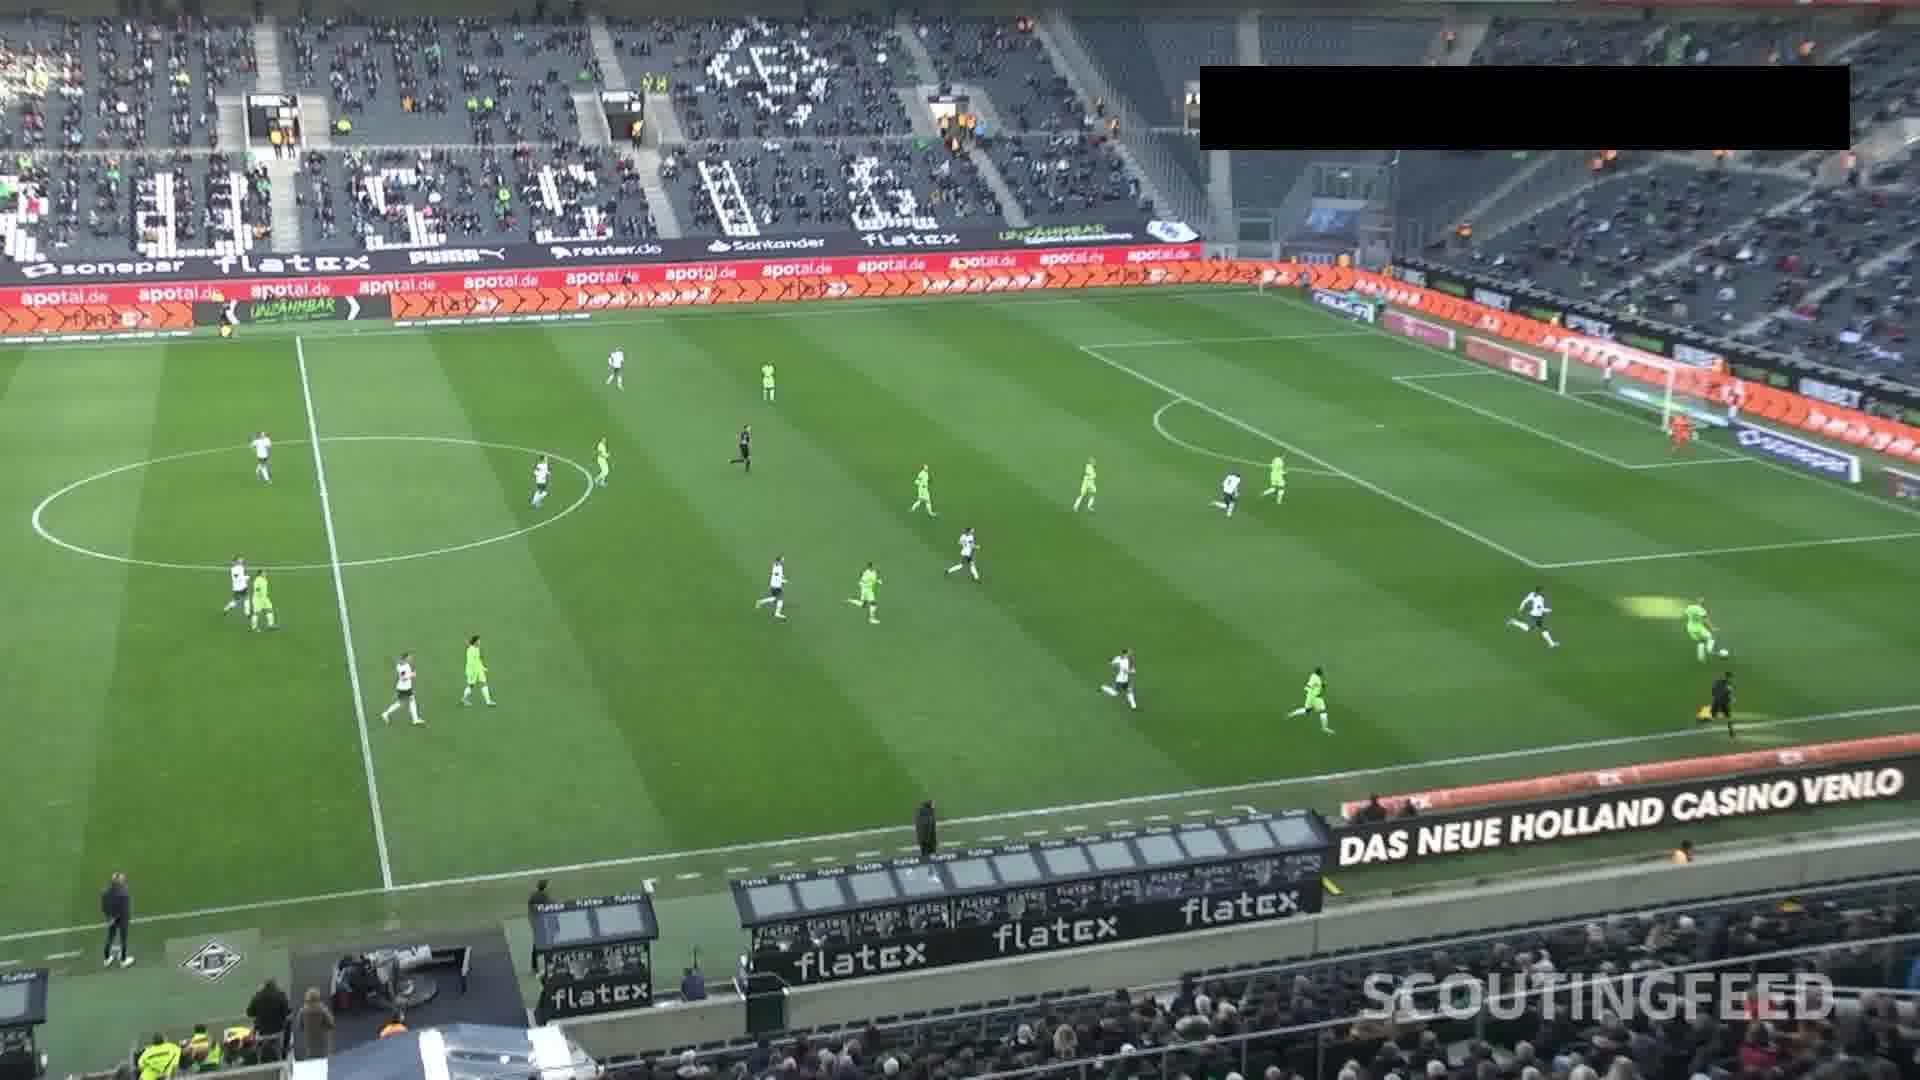football: (1718, 647, 1729, 659)
